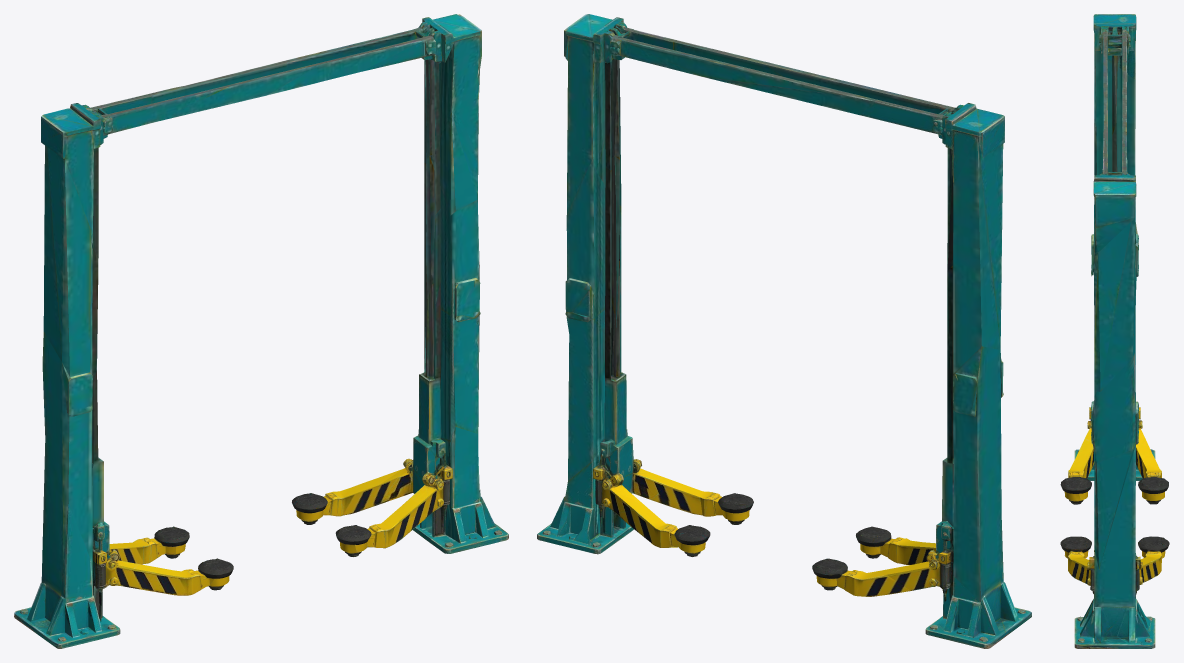
Rendered from lift.glb.
3 renders of one model, left to right at view 1: azimuth 30°, elevation 25°; view 2: azimuth 150°, elevation 25°; view 3: azimuth 270°, elevation 25°, orthographic. The views are drawn at different scales.
Size of the model in its own units: 1.77 by 1.9 by 0.4173.
1 material, 1 textured.
